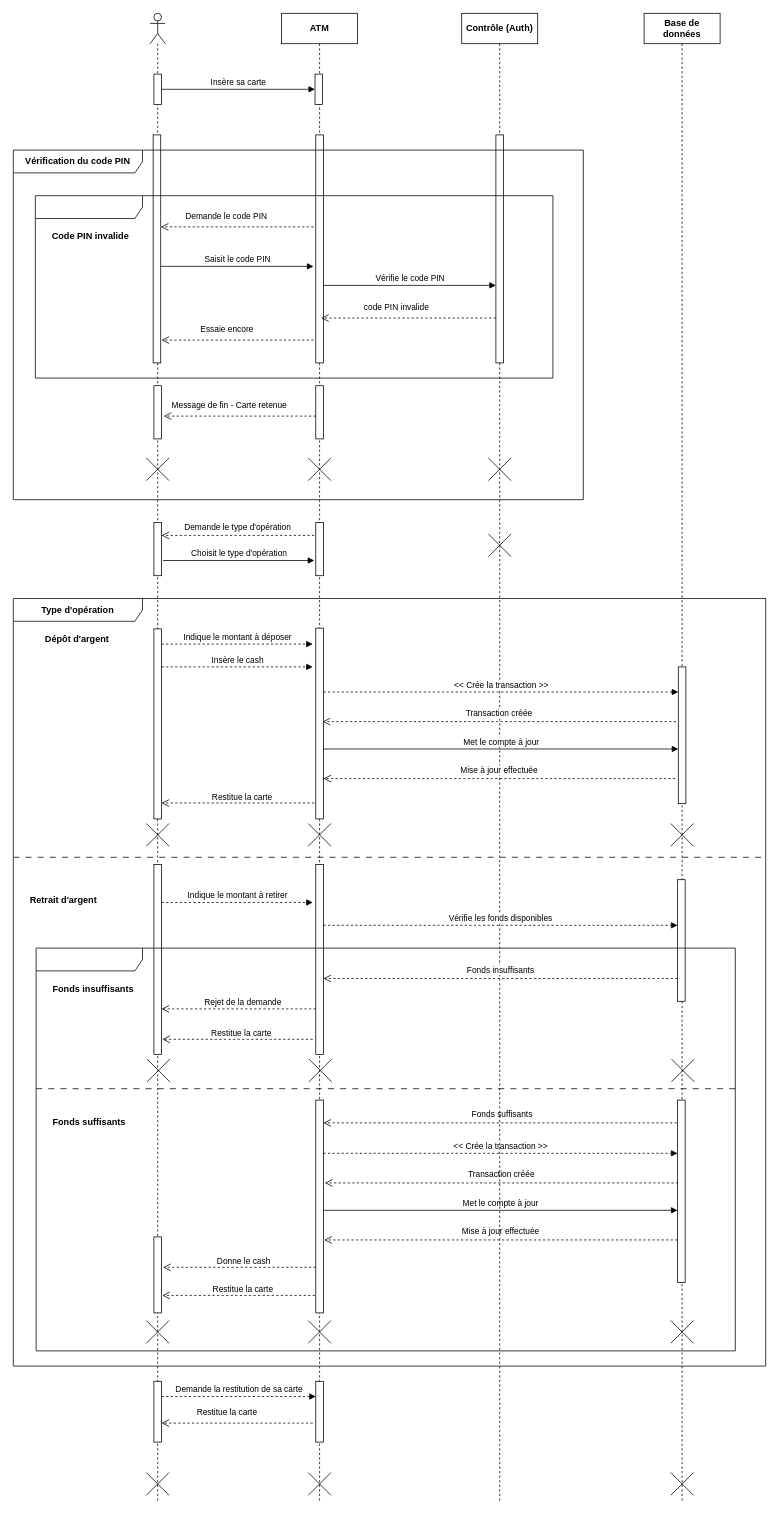
The diagram is 779 pixels wide and 1516 high, and some of its shapes have lost their labels. The box of each missing label's shape, as (x1, y1, x2, y2) in pixels:
LOOP x3: (35, 195, 553, 378)
Vérification des fonds: (35, 947, 735, 1351)
